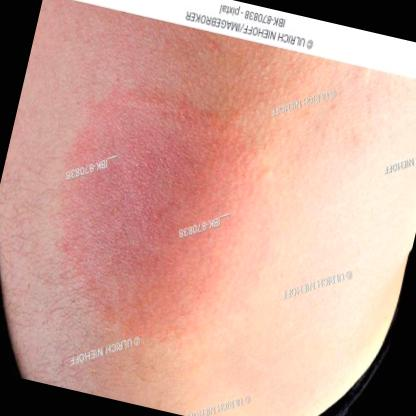Ringworm: (23, 71, 279, 376)
